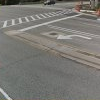crosswalk: (0, 9, 71, 28)
